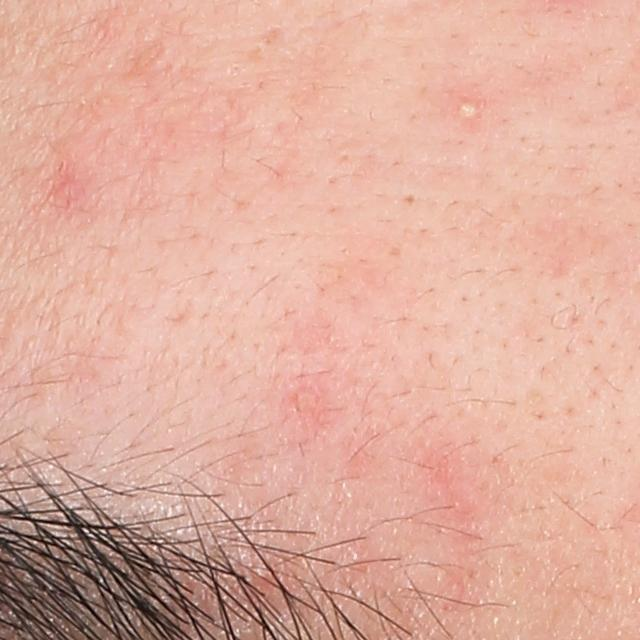comedo: (402, 190, 419, 209)
pustule: (453, 96, 483, 124)
